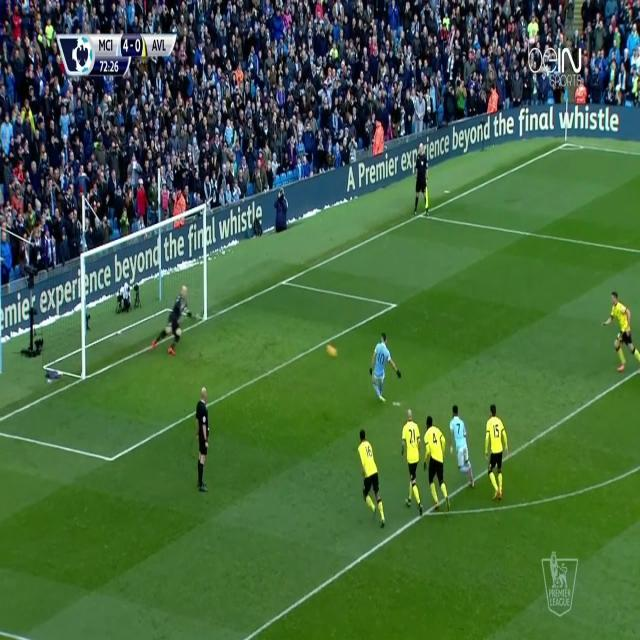Ball: (324, 339, 341, 362)
Goalkeeper: (150, 281, 198, 356)
Player: (355, 427, 390, 532), (599, 287, 640, 372), (422, 414, 453, 516), (398, 406, 425, 516), (447, 401, 478, 489), (369, 329, 403, 407), (482, 404, 508, 503)
Referee: (194, 384, 212, 499), (413, 141, 431, 219)
